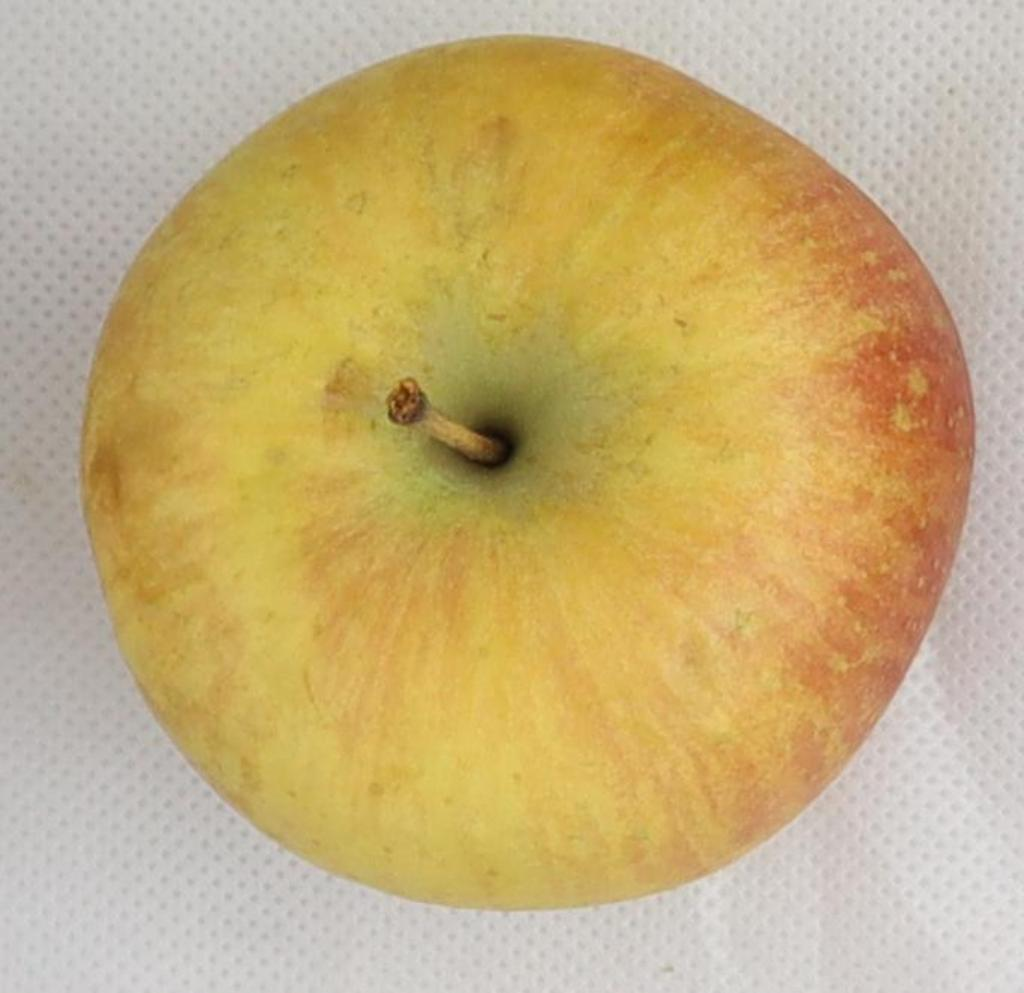apple: (83, 38, 971, 908)
